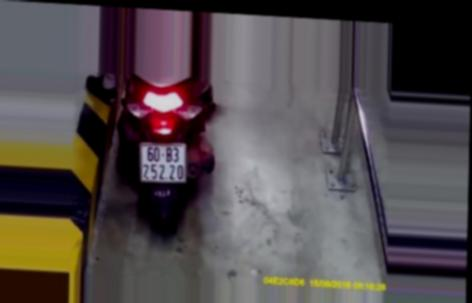License_Plate: (131, 139, 192, 187)
